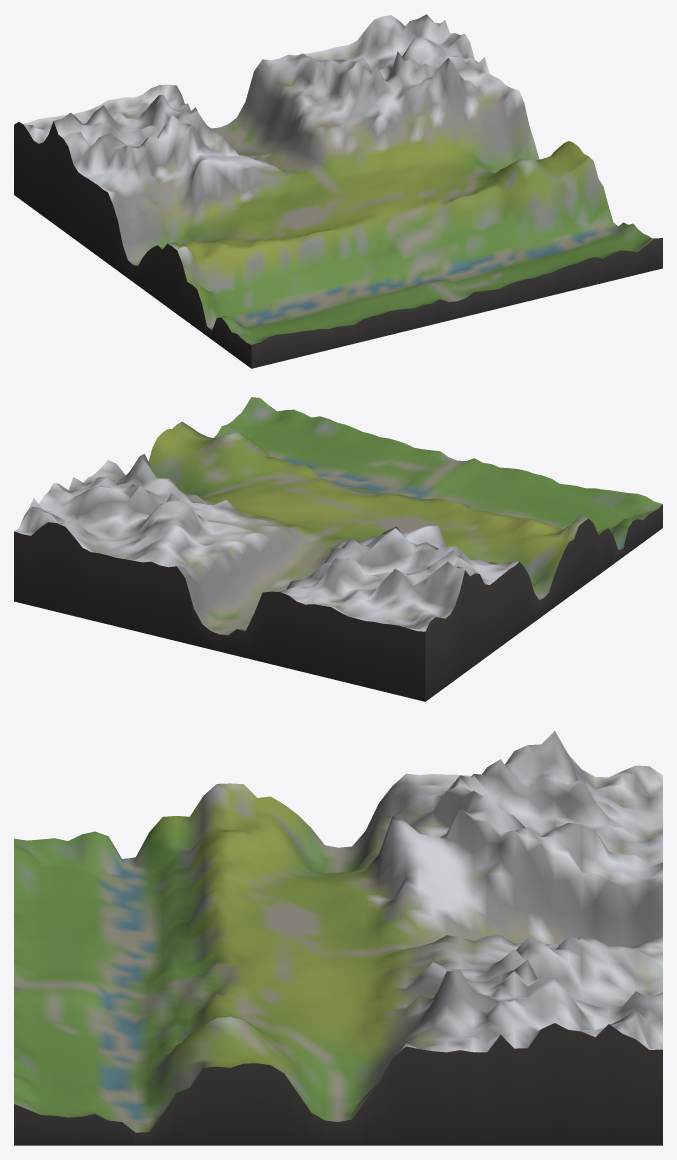
The model's file is far.glb.
3 renders of one model, top to bottom at view 1: azimuth 30°, elevation 25°; view 2: azimuth 150°, elevation 25°; view 3: azimuth 270°, elevation 25°, orthographic. The views are drawn at different scales.
Parts seen in each view (by area): view 1: far-proxy; view 2: far-proxy; view 3: far-proxy.
Part boxes in pixels (x1,y1,x2,y2): far-proxy: [14, 14, 662, 368]; far-proxy: [14, 397, 662, 701]; far-proxy: [14, 730, 662, 1145].
Size of the model in its own units: 500 by 125 by 500.
